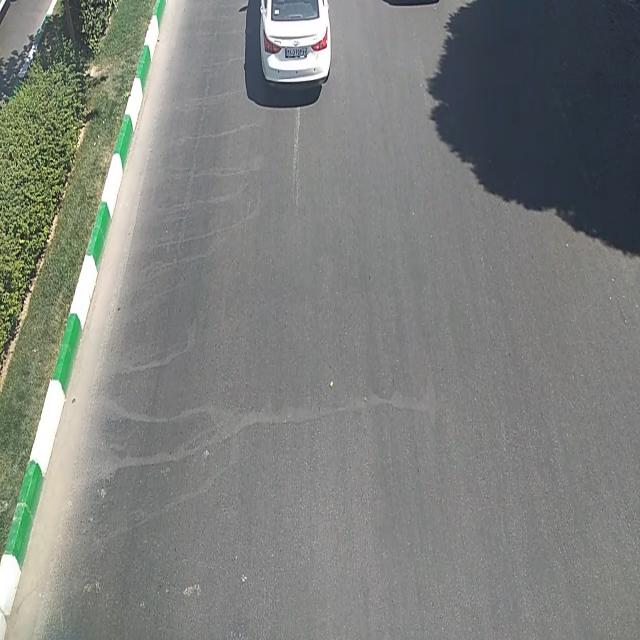car: (256, 3, 337, 87)
